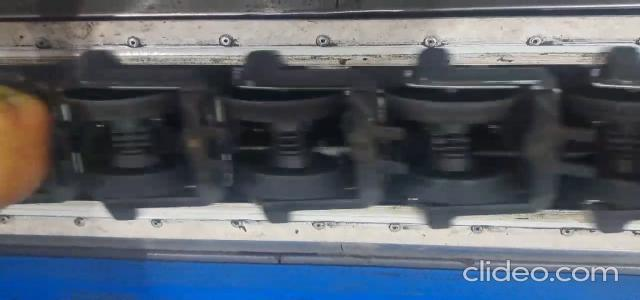apple: (0, 1, 640, 21)
